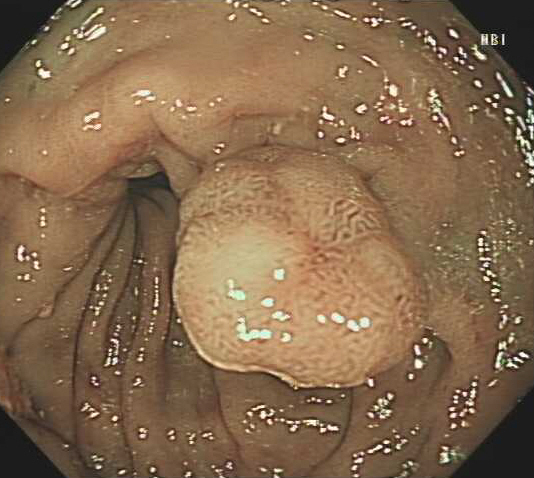adenoma: (167, 146, 430, 393)
